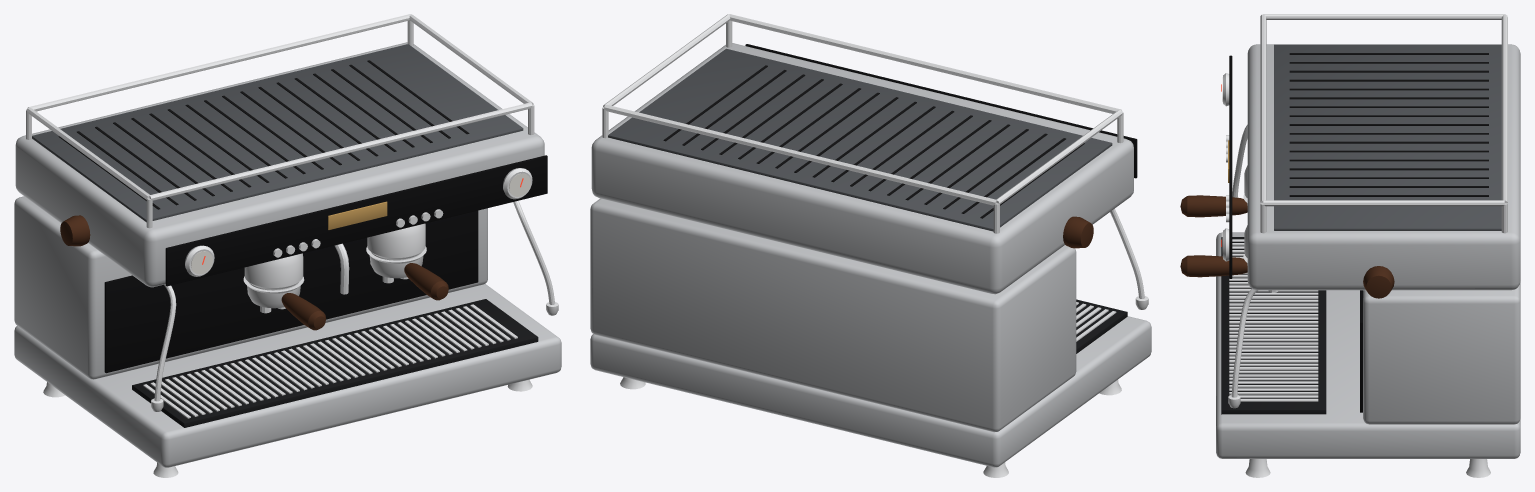
The model's file is espresso_steel.glb.
3 renders of one model, left to right at view 1: azimuth 30°, elevation 25°; view 2: azimuth 150°, elevation 25°; view 3: azimuth 270°, elevation 25°, orthographic. The views are drawn at different scales.
Visible parts, largest first — view 1: steel_2g; view 2: steel_2g; view 3: steel_2g.
Boxes of the visible parts, x1,y1,x2,y2 form: steel_2g: [14, 14, 561, 477]; steel_2g: [590, 14, 1151, 477]; steel_2g: [1180, 14, 1520, 477].
Size of the model in its own units: 0.96 by 0.5859 by 0.648.
